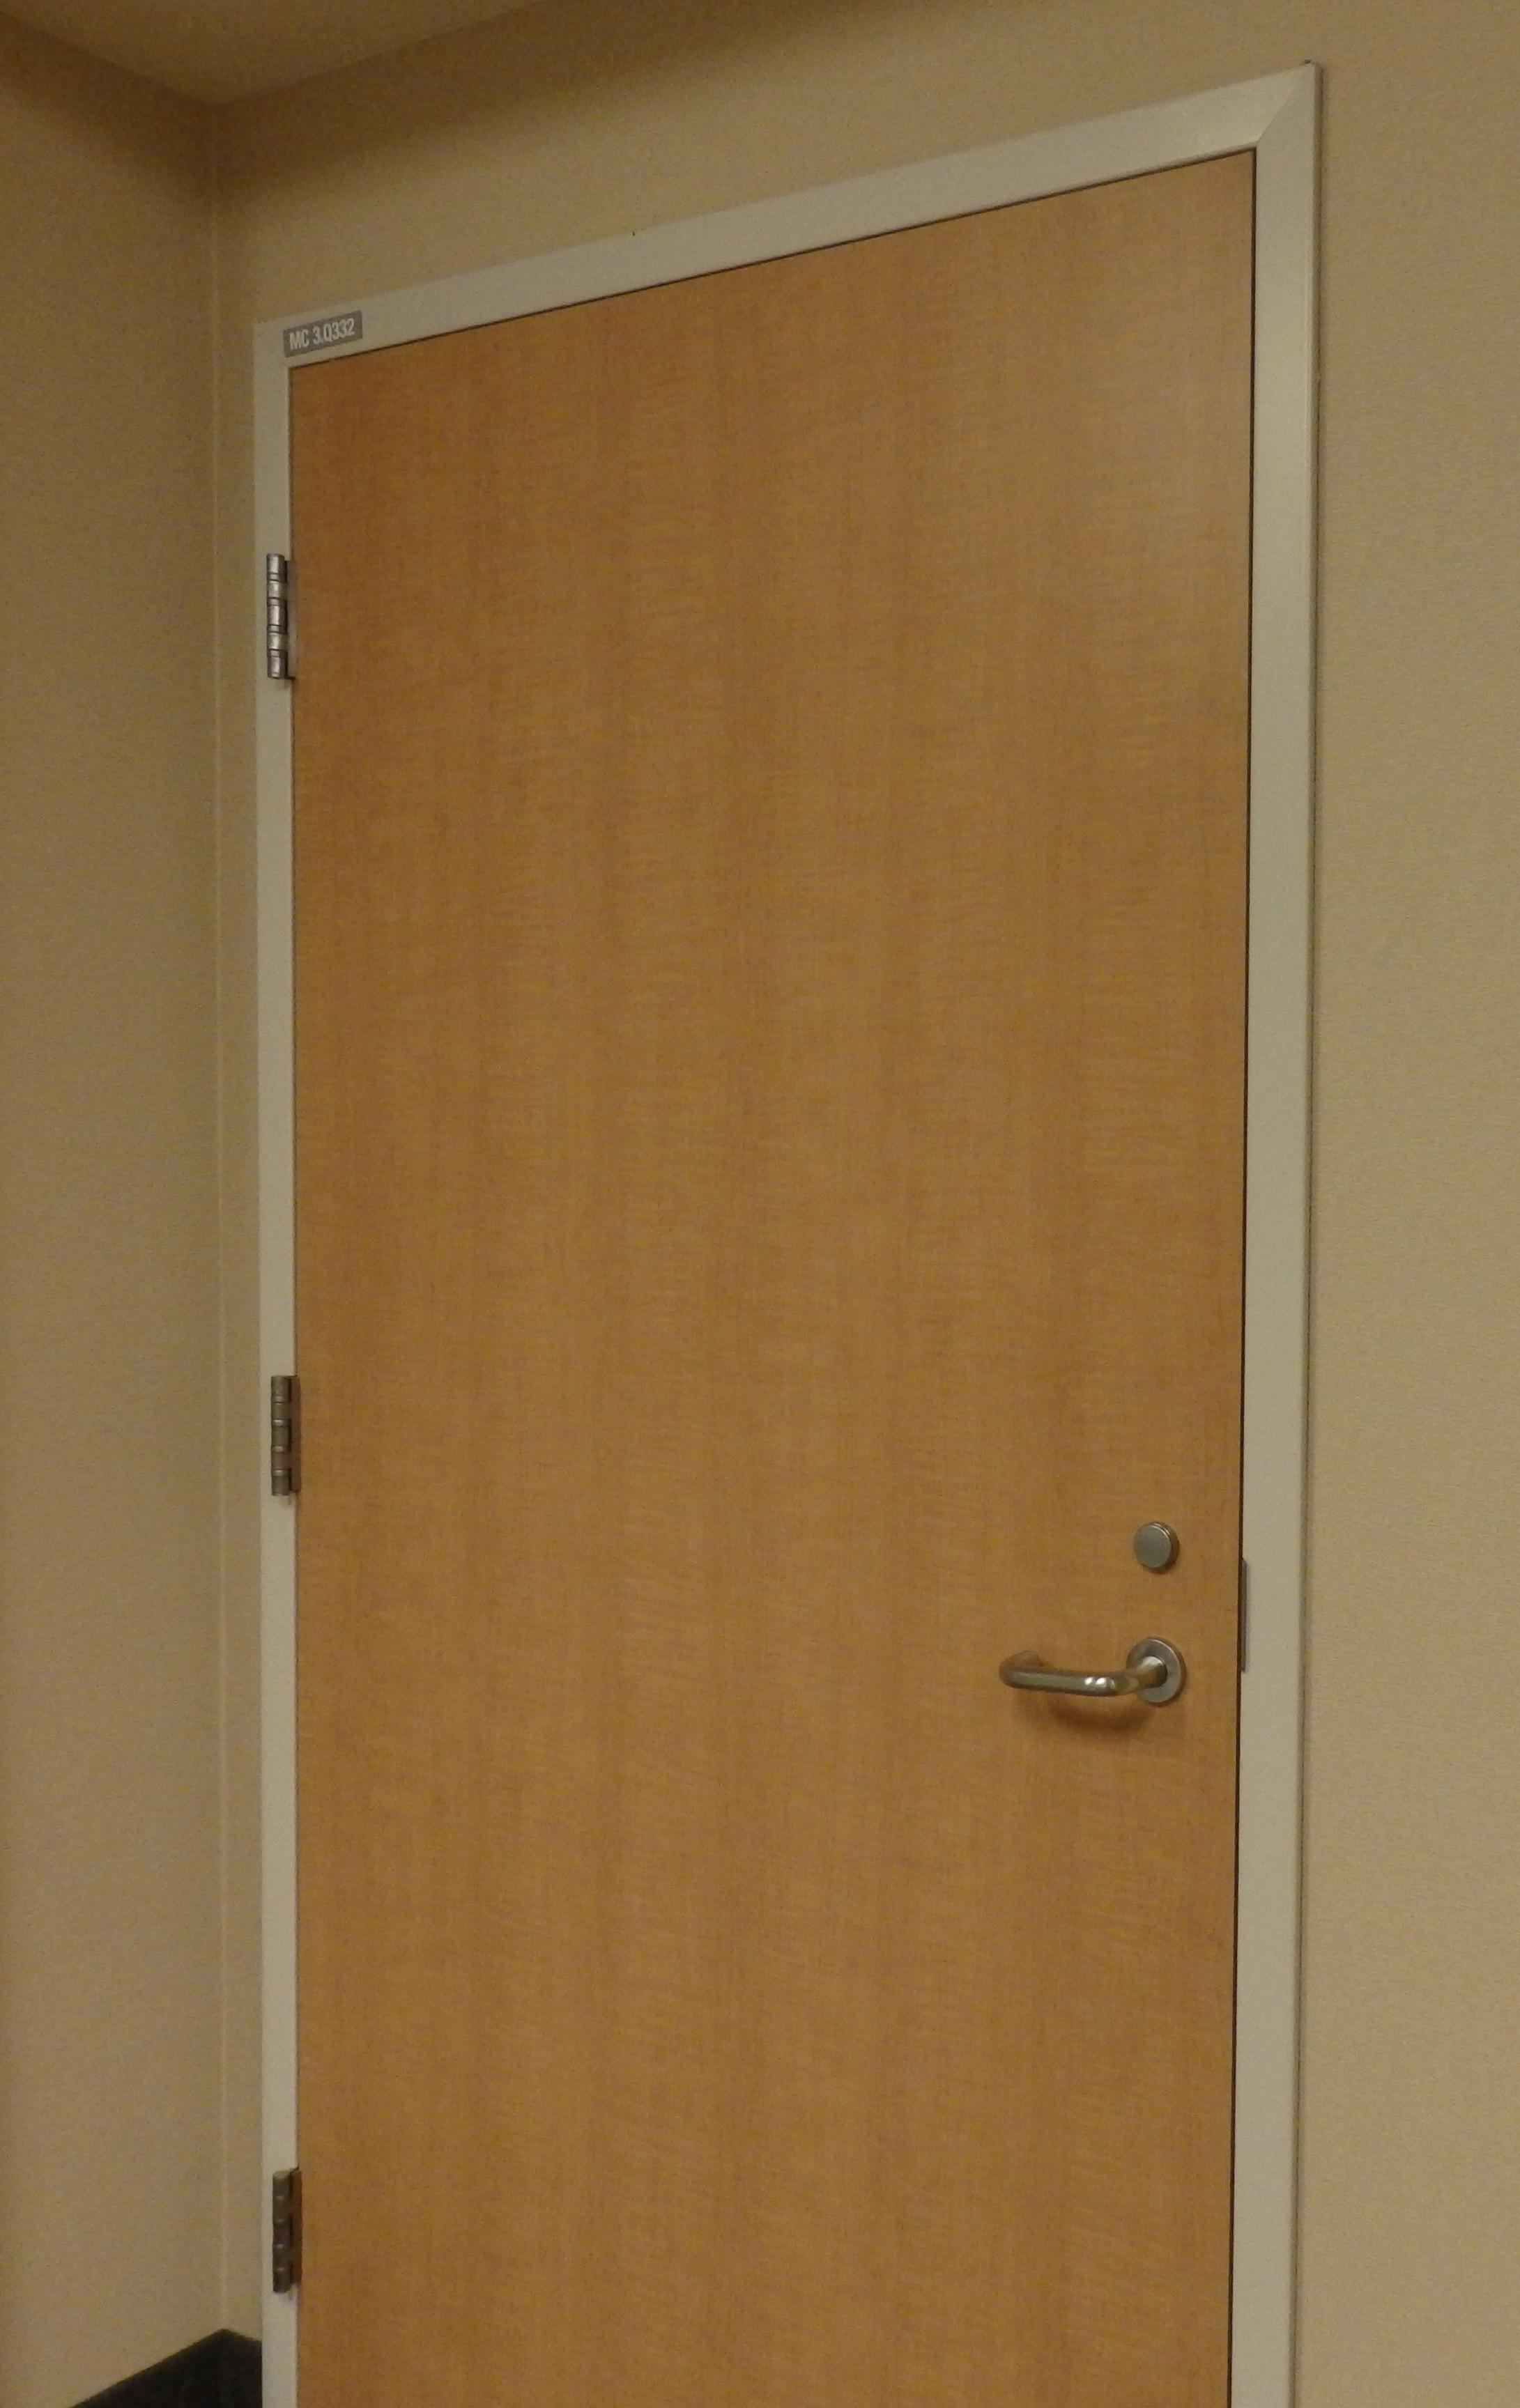door: (215, 142, 1280, 2408)
